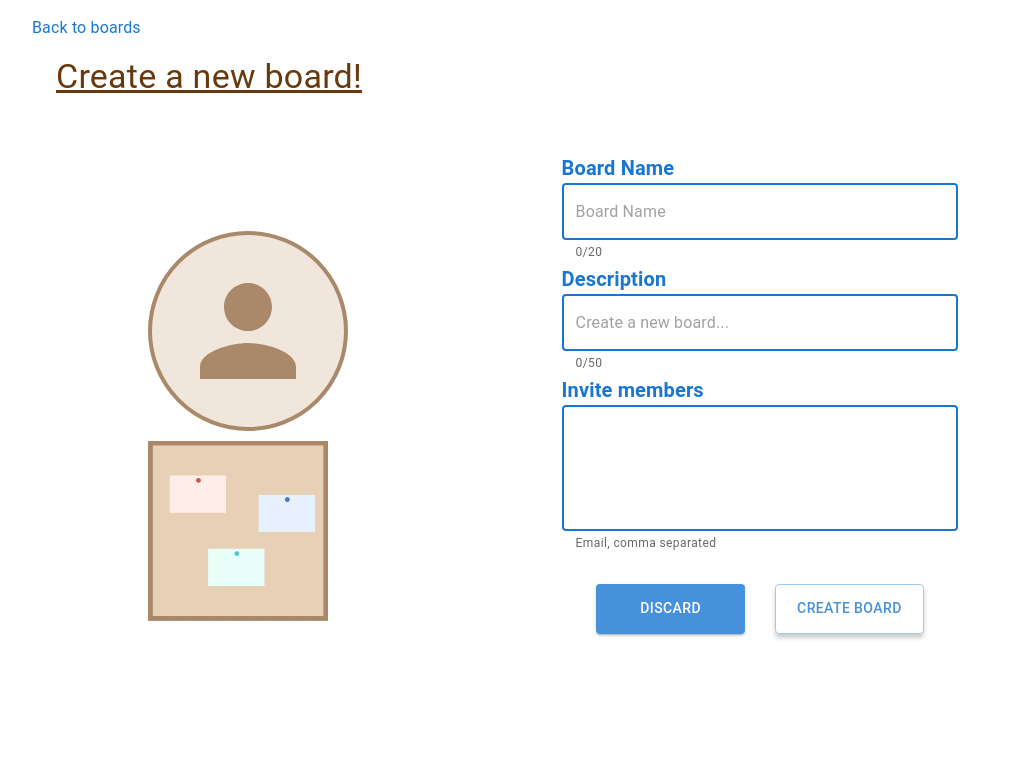
Test: Testing <CreateNewBoard /> Component › should ask the user if they agree to discard
This screenshot has width=1024, height=768.
Click the button "Discard".
click(671, 609)  # box [596,584,745,634]
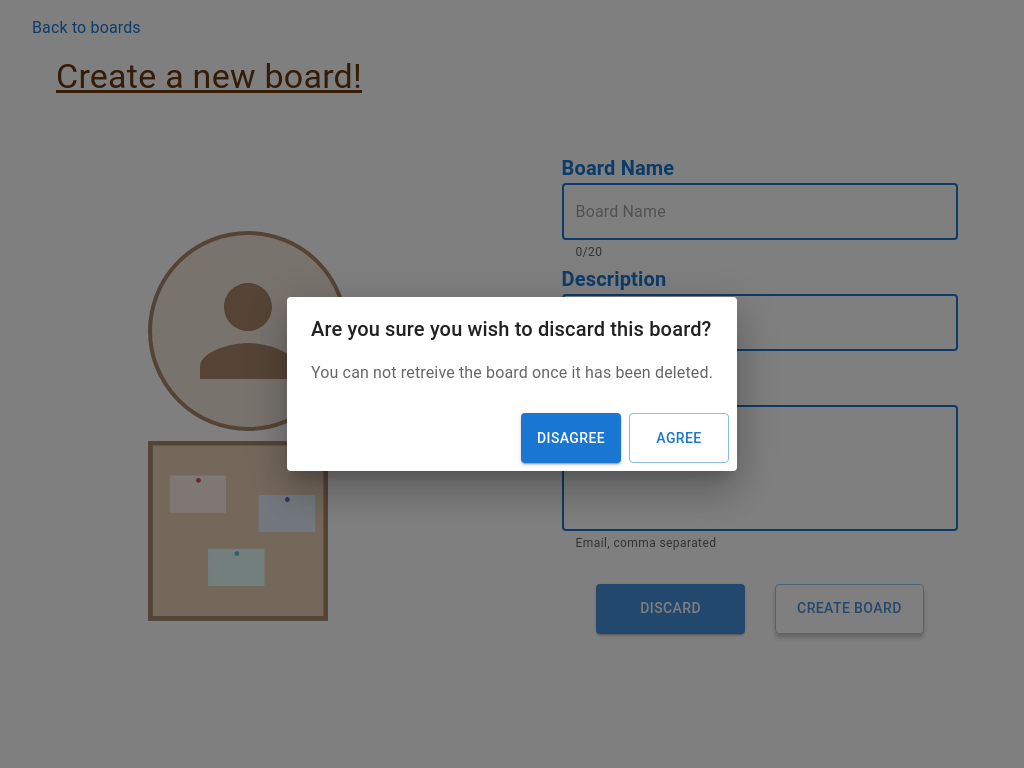
Check: the heading with id "responsive-dialog-title" reads "Are you sure you wish to discard this board?", box [311,317,712,341]
